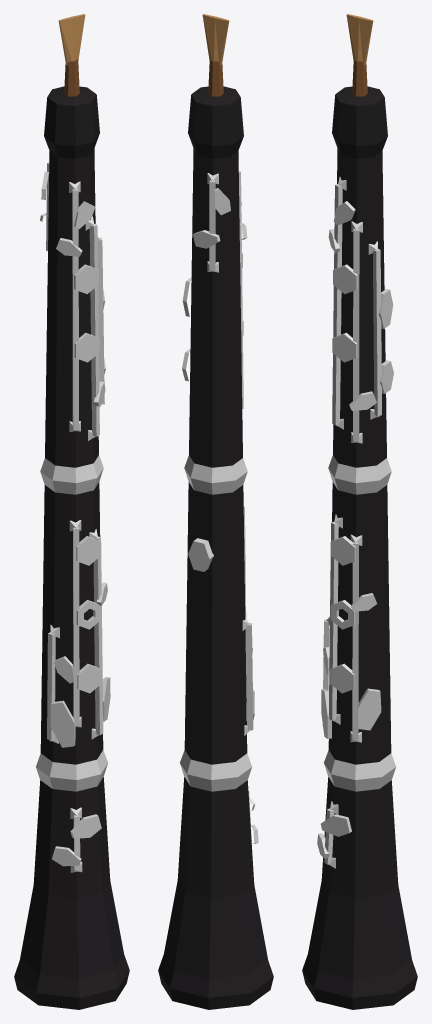
The model's file is oboe-8eec6a.glb.
3 renders of one model, left to right at view 1: azimuth 30°, elevation 25°; view 2: azimuth 150°, elevation 25°; view 3: azimuth 330°, elevation 25°, orthographic.
Parts seen in each view (by area): view 1: body, keywork, reed-mesh; view 2: body, keywork, reed-mesh; view 3: body, keywork, reed-mesh.
Boxes of the visible parts, left/top/right/bottom form: body: left=14, top=86, right=129, bottom=1009; keywork: left=36, top=162, right=110, bottom=872; reed-mesh: left=58, top=14, right=85, bottom=96; body: left=158, top=86, right=273, bottom=1009; keywork: left=180, top=171, right=258, bottom=844; reed-mesh: left=202, top=14, right=229, bottom=96; body: left=302, top=86, right=417, bottom=1009; keywork: left=317, top=177, right=395, bottom=868; reed-mesh: left=346, top=14, right=373, bottom=96.
Size of the model in its own units: 0.0656 by 0.6505 by 0.0656.
